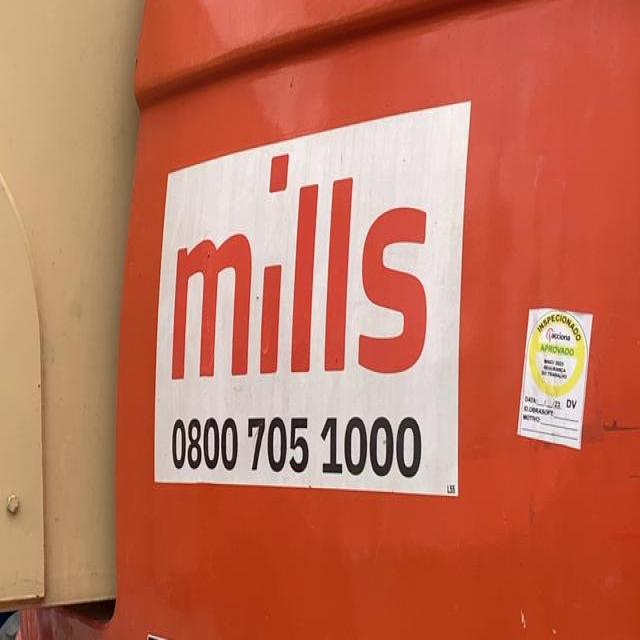Adesivos: (147, 84, 481, 505)
